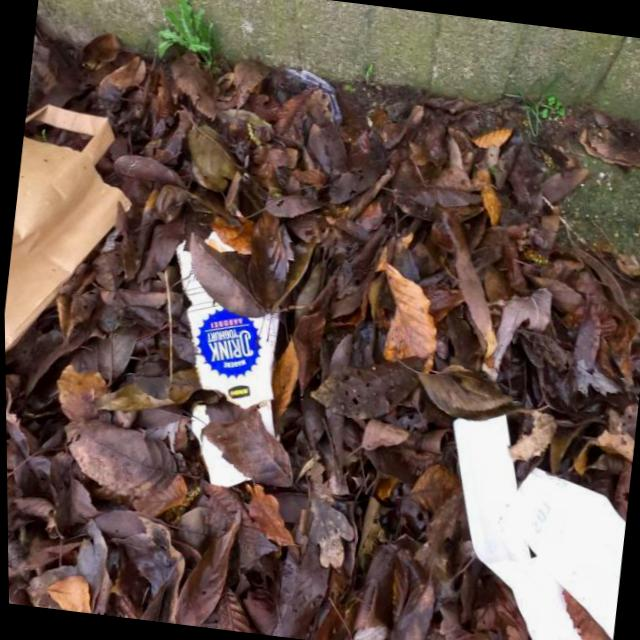Paper: (420, 401, 637, 640)
